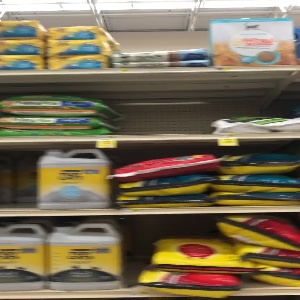void: (110, 72, 216, 138), (1, 140, 36, 216)
